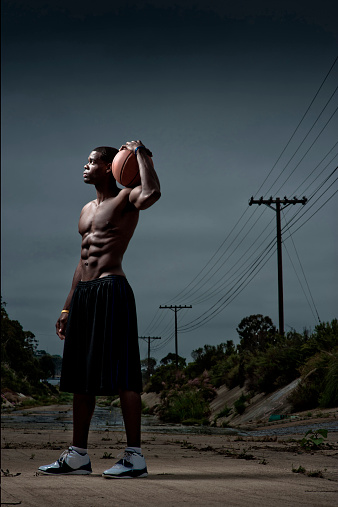em pe: (42, 109, 162, 495)
